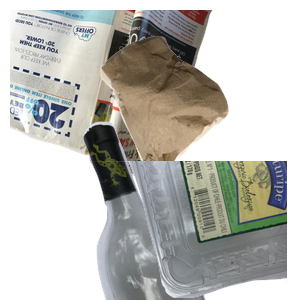glass: (81, 120, 300, 300)
paper: (10, 10, 215, 186)
plastic: (60, 161, 300, 300)
trash: (98, 34, 300, 211)
